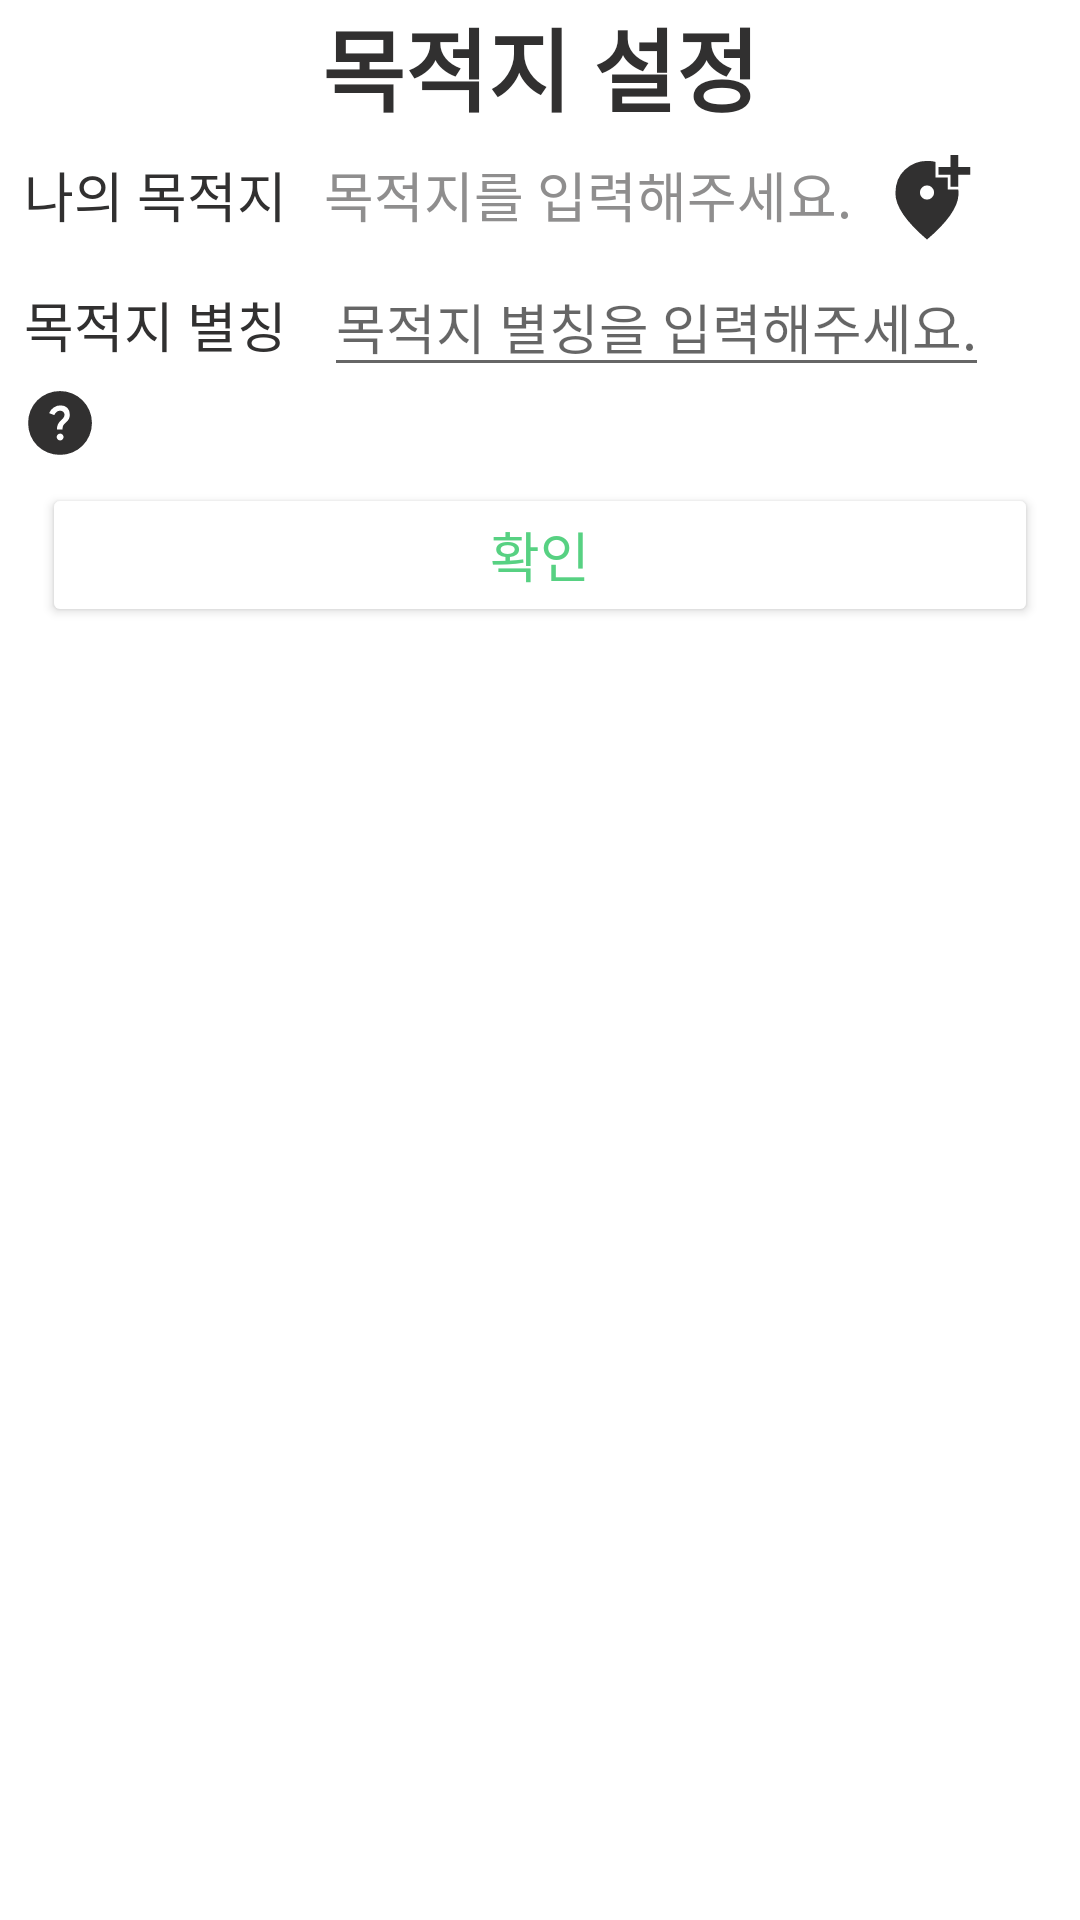

Screen size 1080×1920. Icon name, then its center in pixels as (x,y):
add location: (933,197)
help: (60,423)
